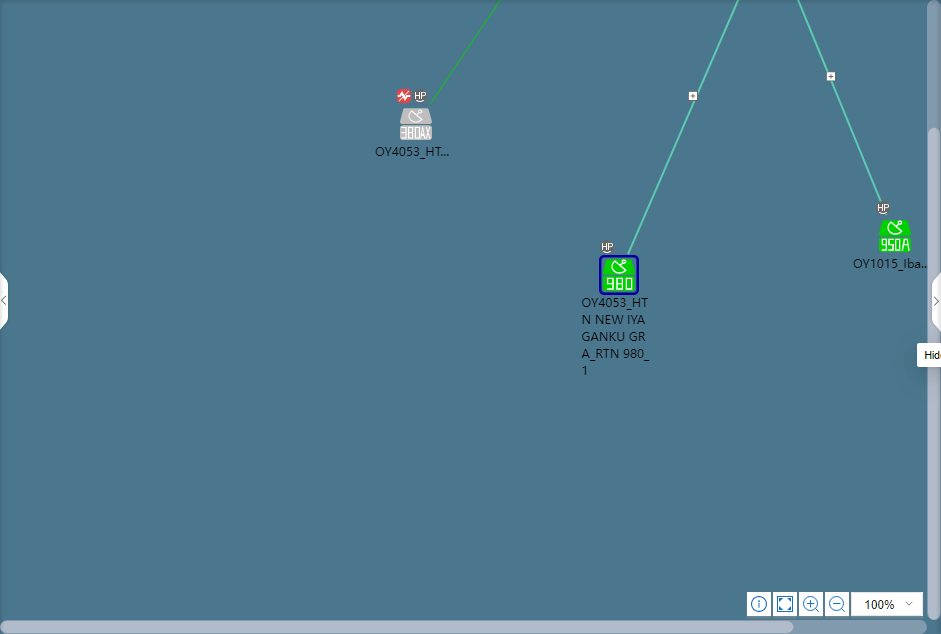Link_Blue: (626, 0, 740, 254), (795, 0, 891, 217)
Link_Green: (427, 0, 503, 106)
RTN_Gray: (400, 108, 431, 140)
RTN_Green: (600, 258, 636, 293), (879, 220, 909, 252)
